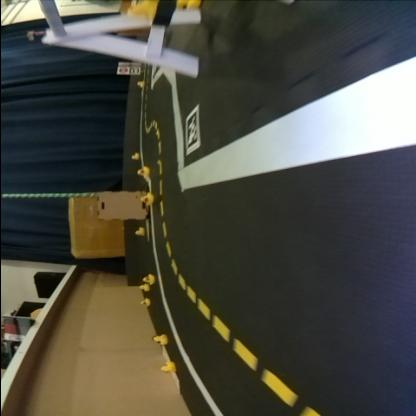Duckie: (140, 194, 152, 206), (137, 167, 147, 179), (152, 336, 166, 344), (162, 363, 172, 373), (142, 274, 152, 284), (133, 228, 143, 237), (139, 300, 147, 306), (139, 285, 147, 291), (130, 154, 138, 160)
QR code: (184, 106, 198, 156)
